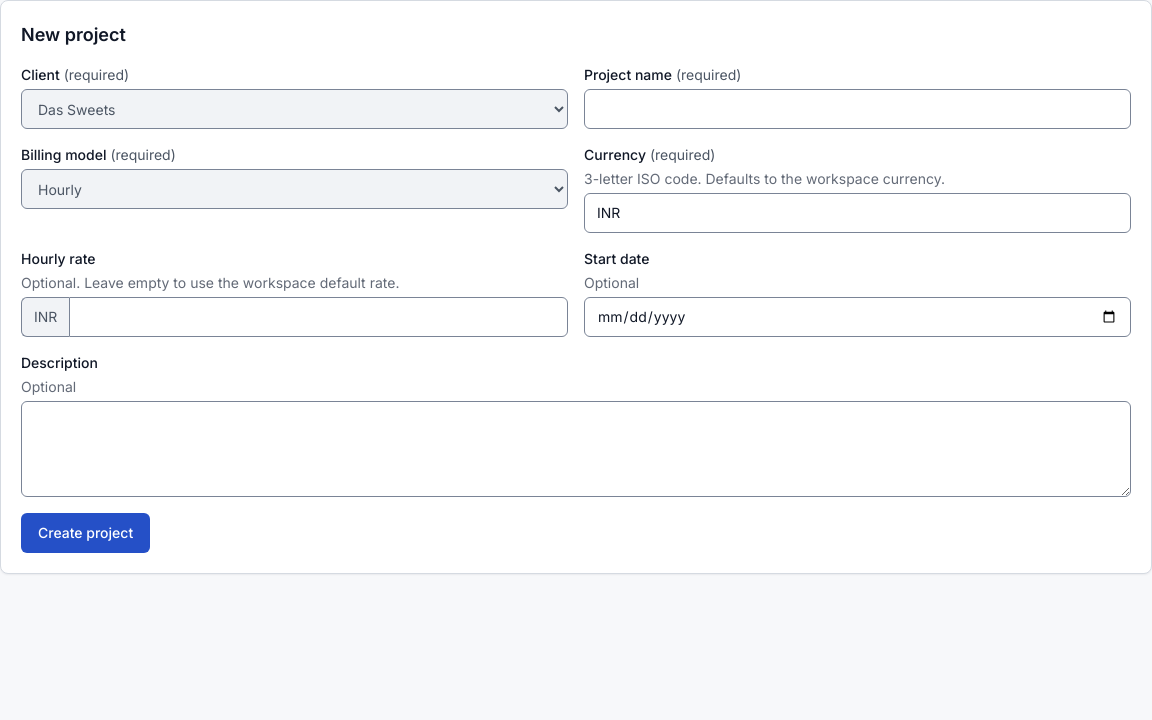
it: S-03 ProjectForm (FR-011) › CT-PRJ-02 AC-005.2 an archived client (409) is explained in a banner
The width and height of the screenshot is (1152, 720).
Type "Website" into the field labelled "Project name (required)".
click(858, 109); type("Website")  # box 584,89 -> 1131,129
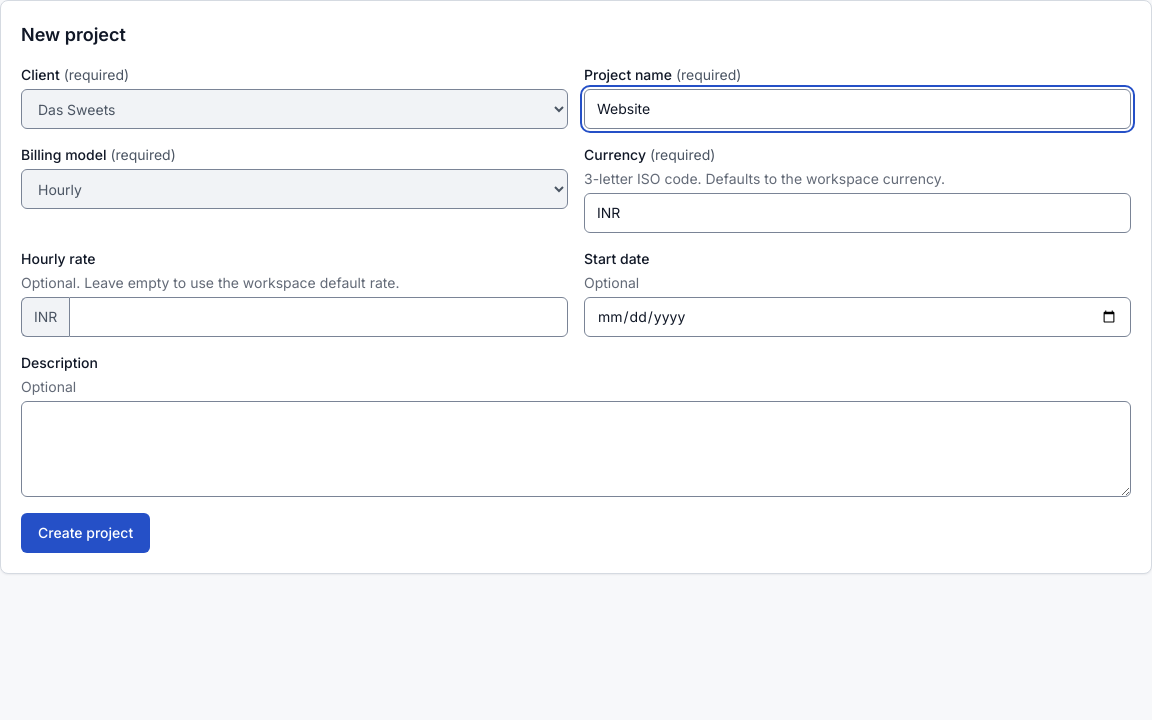
Click the button "Create project".
click(86, 533)  # box 21,513 -> 150,553
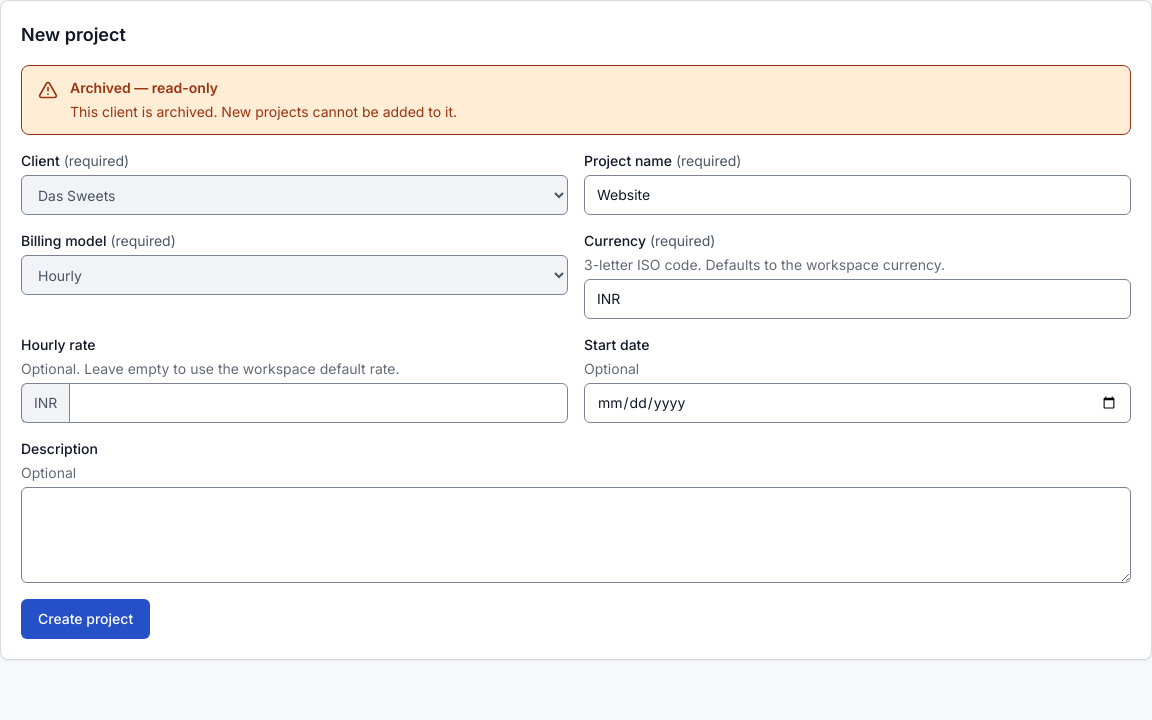
Expected: the text "Archived — read-only" is shown, 70,79 -> 218,96
Expected: the text "This client is archived. New projects cannot be added to it." is shown, 70,103 -> 457,120
